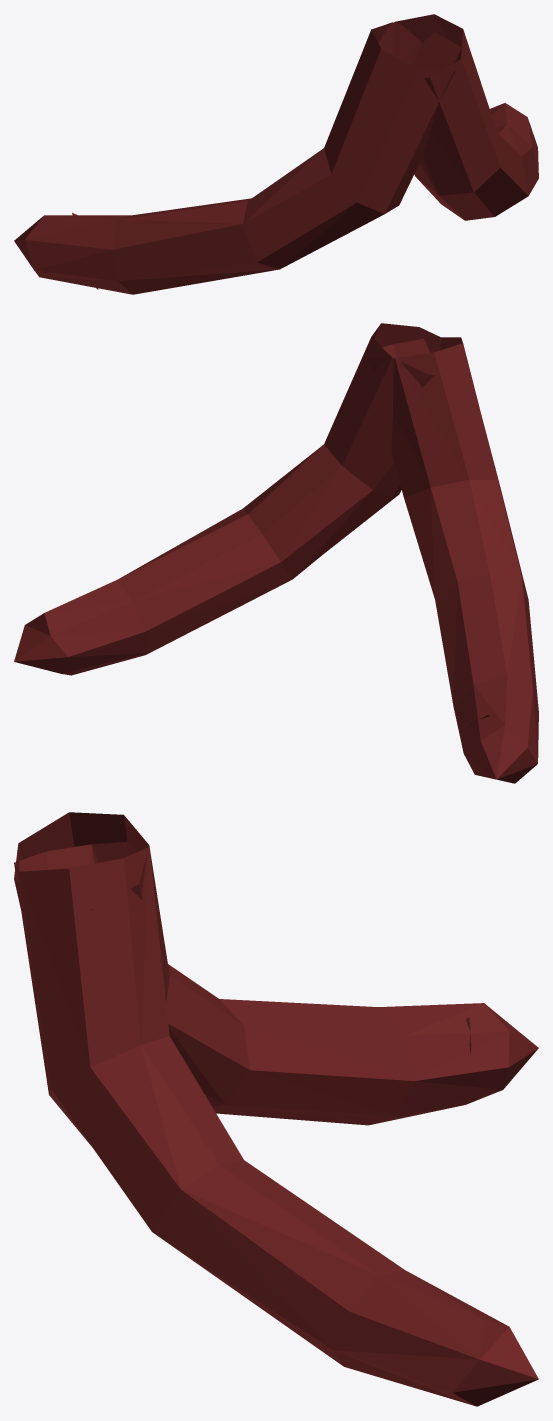
File: Artéria Iliaca Común.FBX
The picture shows the model from 3 angles, top to bottom: view 1: azimuth 30°, elevation 25°; view 2: azimuth 150°, elevation 25°; view 3: azimuth 270°, elevation 25°; orthographic projection. The views are drawn at different scales.
Parts seen in each view (by area): view 1: CS_Arterie; view 2: CS_Arterie; view 3: CS_Arterie.
Boxes of the visible parts, x1,y1,x2,y2 form: CS_Arterie: (14, 14, 538, 294); CS_Arterie: (14, 323, 538, 783); CS_Arterie: (14, 812, 538, 1406).
Bounding box in the file's own units: 217 × 121 × 139.
